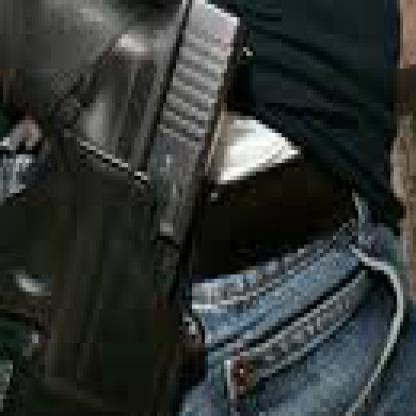gun: (73, 143, 401, 383)
